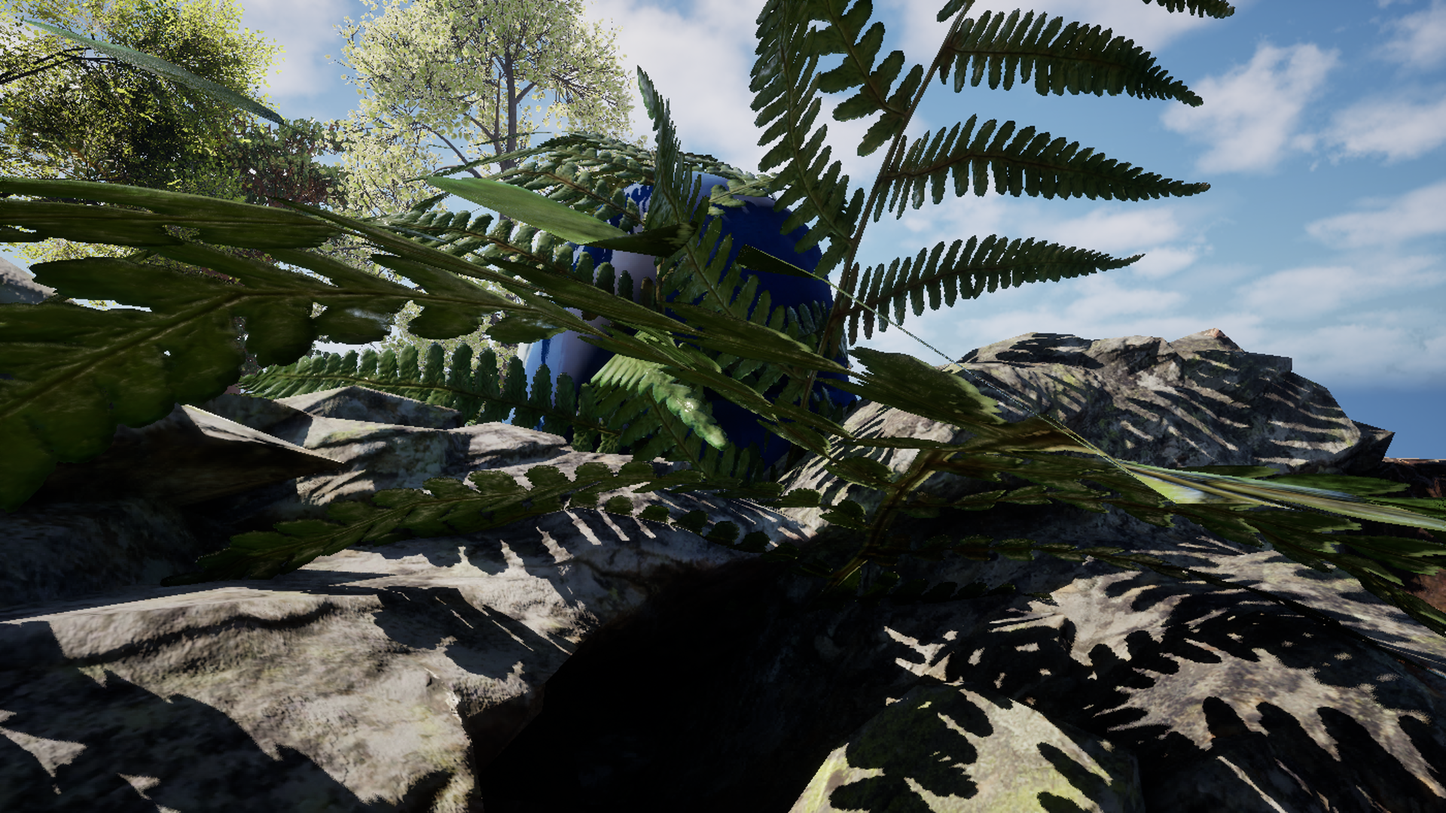Piplup: (290, 0, 1117, 813)
